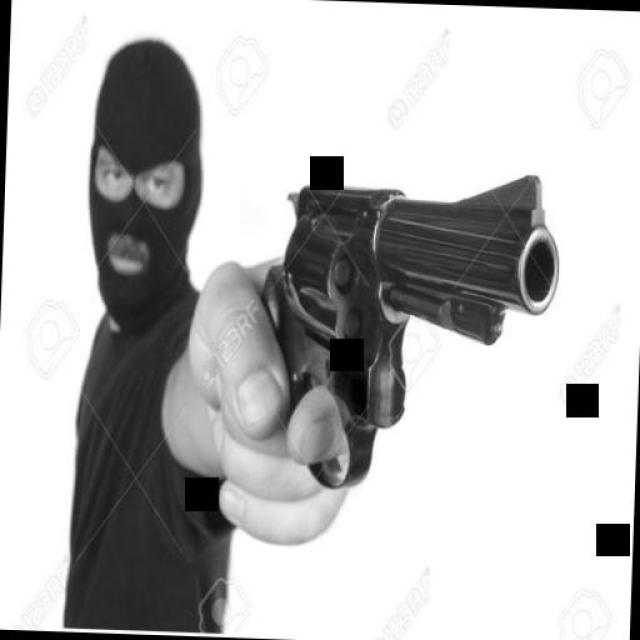gun: (239, 166, 570, 509)
